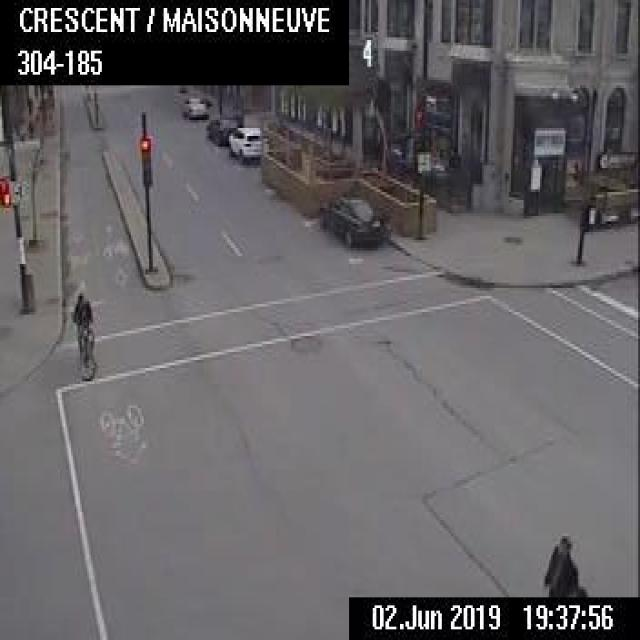cyclist: (71, 288, 94, 376)
pedestrian: (540, 530, 585, 594)
vehicle: (315, 192, 389, 248), (227, 124, 262, 160), (204, 115, 237, 144), (179, 92, 205, 118)
